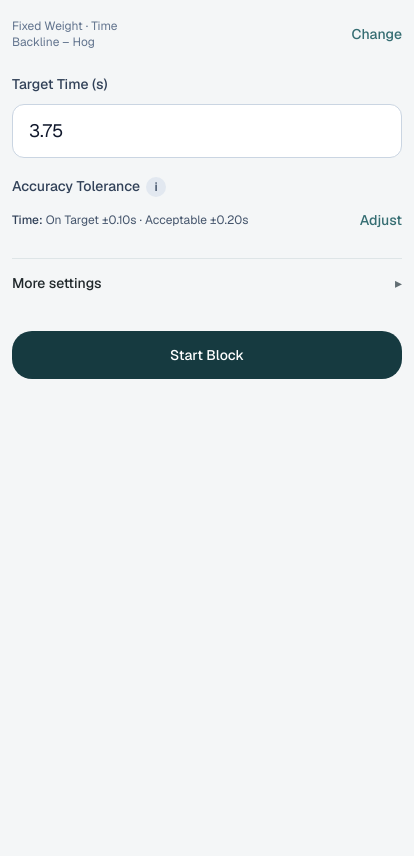
Test: TrainingSetup — Smart Random Profiles selector visibility › does not appear for Hog – Hog, even with Smart Random as the target source
Click the button "Change". click: (377, 34)
box: x1=352 y1=12 x2=402 y2=56
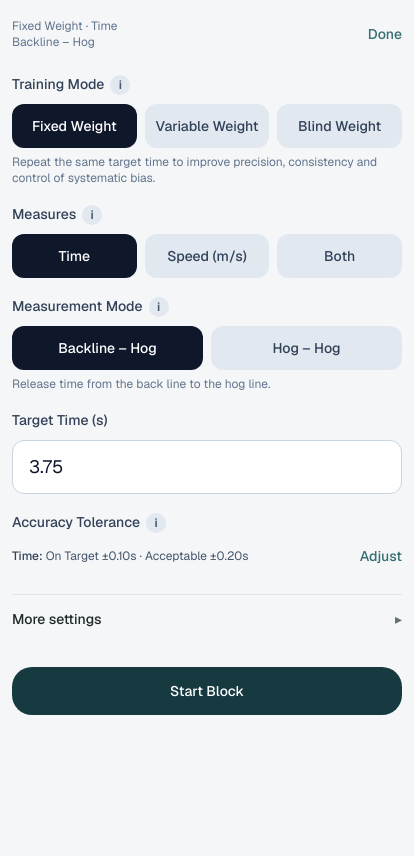
Click the button "Variable Weight". click: (207, 126)
box: x1=145 y1=104 x2=269 y2=148
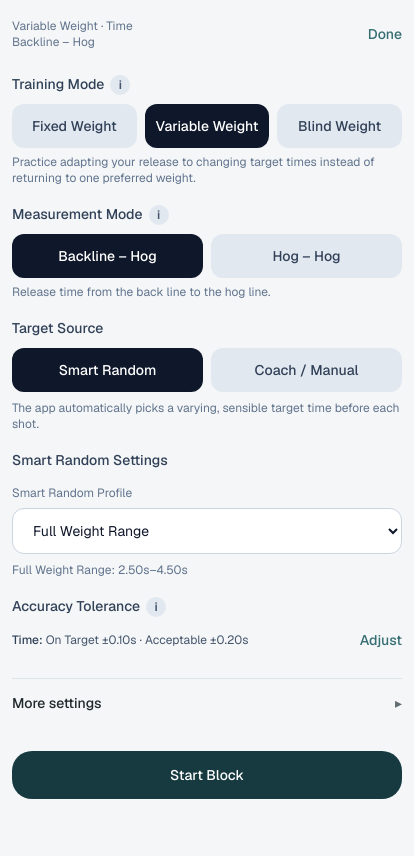
Click the button "Hog – Hog". click: (306, 256)
box: x1=211 y1=234 x2=402 y2=278
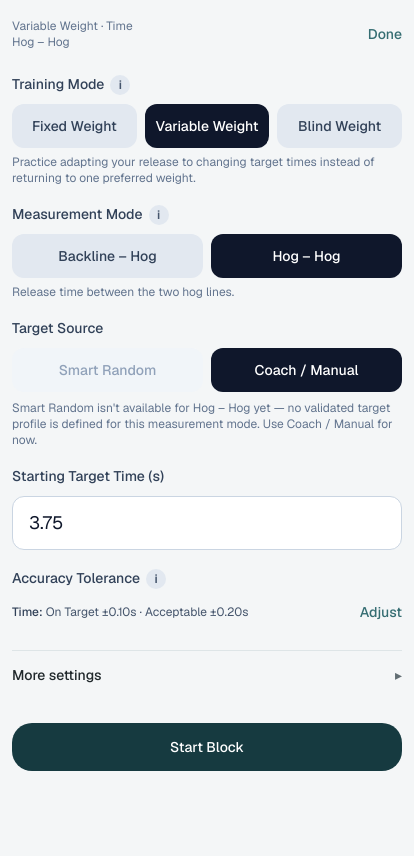
Expected: the text "Smart Random Settings" is gone
Expected: the label labelled "Smart Random Profile" is gone
